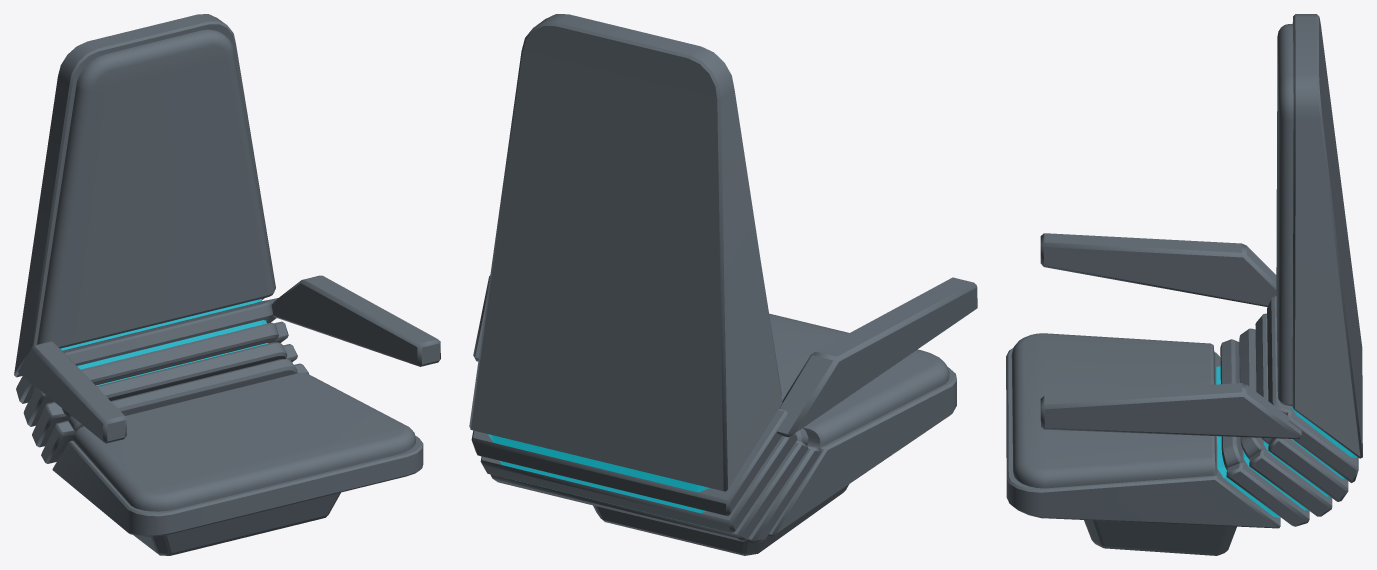
Rendered from SM_Entrance_Chair.glb.
The picture shows the model from 3 angles, left to right: view 1: azimuth 30°, elevation 25°; view 2: azimuth 150°, elevation 25°; view 3: azimuth 270°, elevation 25°; orthographic projection. The views are drawn at different scales.
Visible parts, largest first — view 1: chair__root_mesh; view 2: chair__root_mesh; view 3: chair__root_mesh.
Boxes of the visible parts, x1,y1,x2,y2 form: chair__root_mesh: [14, 14, 440, 555]; chair__root_mesh: [469, 14, 977, 555]; chair__root_mesh: [1006, 14, 1362, 555].
Bounding box in the file's own units: 0.8114 × 1.03 × 0.7001.
